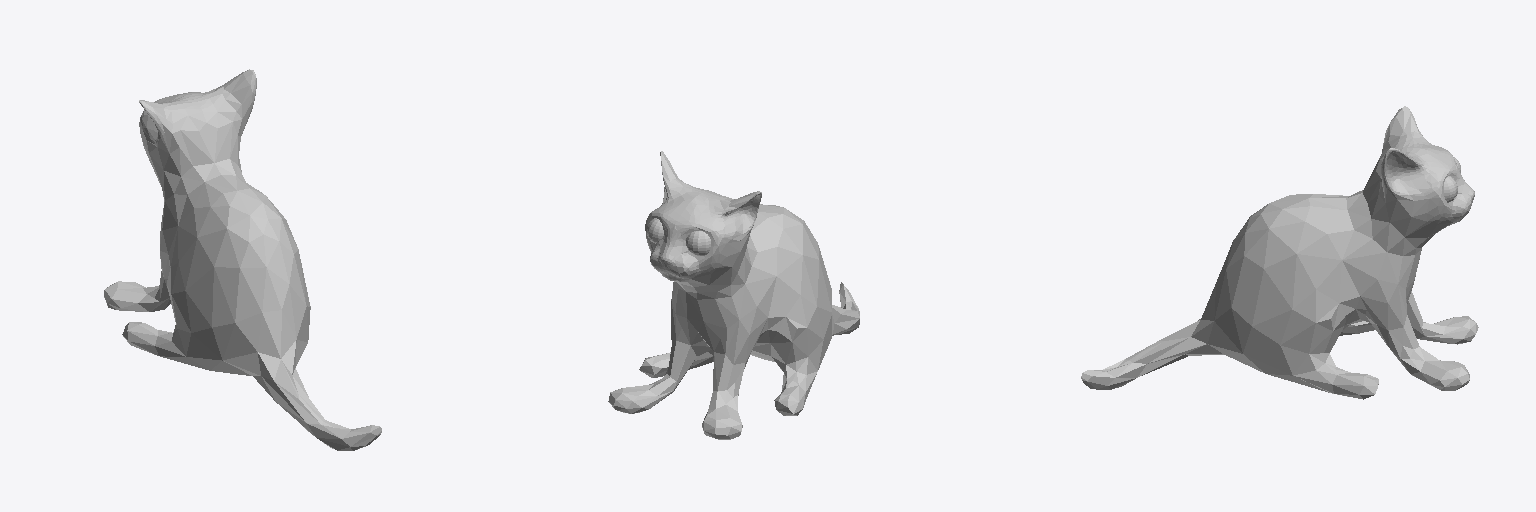
File: Jinck spin.obj
3 views of the same model, side by side, from view 1: azimuth 30°, elevation 25°; view 2: azimuth 150°, elevation 25°; view 3: azimuth 270°, elevation 25° (orthographic).
Visible parts, largest first — view 1: Mesh; view 2: Mesh; view 3: Mesh.
Part boxes in pixels (x1,y1,x2,y2): Mesh: (104,69,381,450); Mesh: (608,151,859,439); Mesh: (1081,106,1478,399).
Size of the model in its own units: 0.7429 by 1.16 by 1.57.